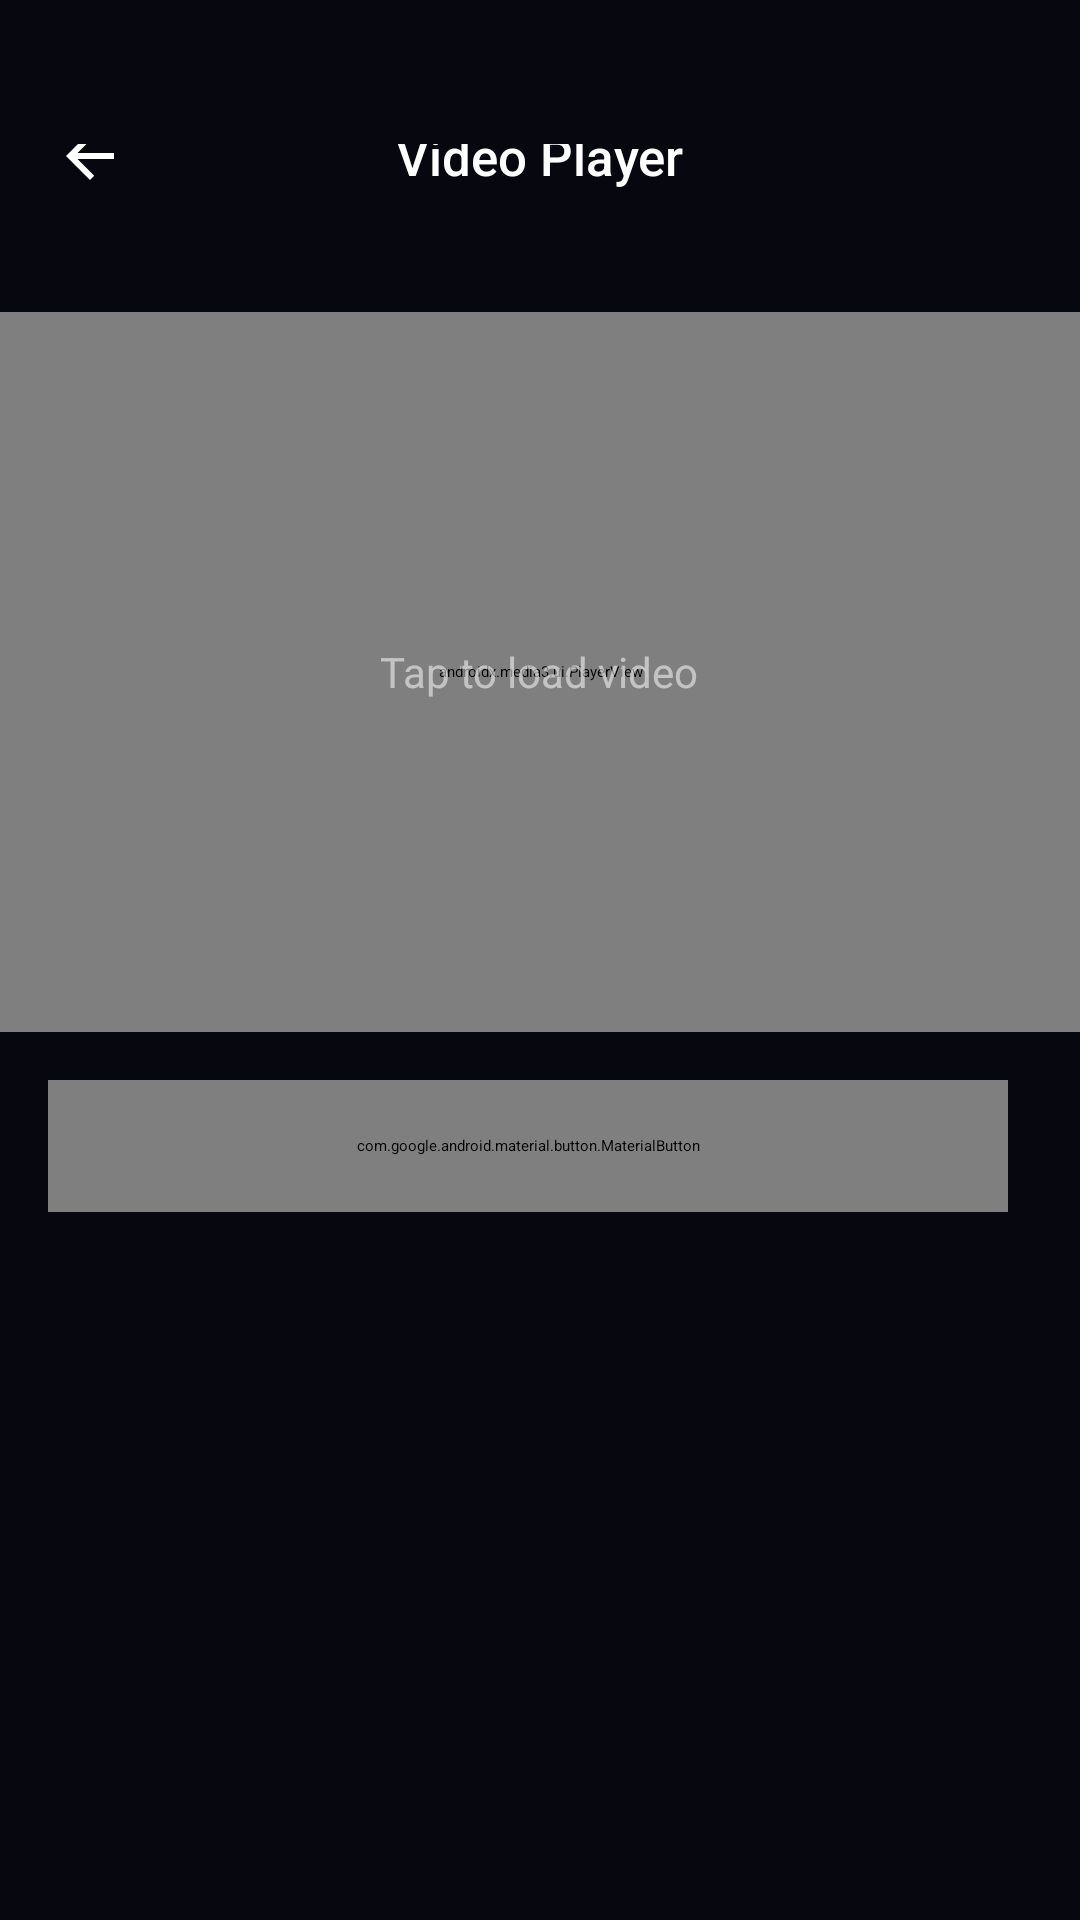

Icons on this 1080*1920 Android screen, each with its box as [x1, y1, x2, y2]:
Back: [66, 144, 114, 180]
